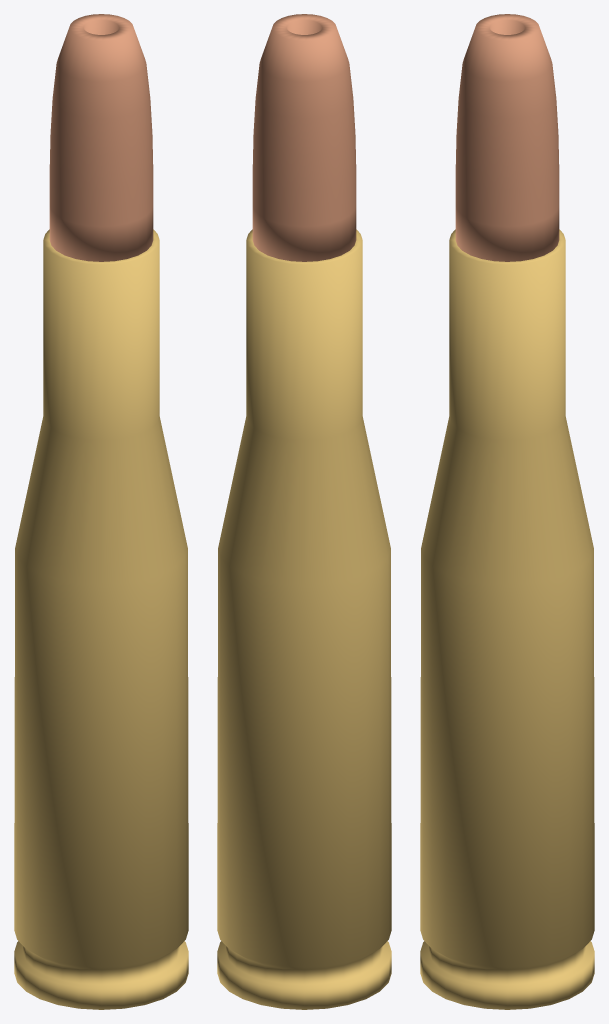
3 views of the same model, side by side, from view 1: azimuth 30°, elevation 25°; view 2: azimuth 150°, elevation 25°; view 3: azimuth 270°, elevation 25° (orthographic).
Parts seen in each view (by area): view 1: vaina, bala_hueca; view 2: vaina, bala_hueca; view 3: vaina, bala_hueca.
Boxes of the visible parts, x1=… form: vaina: x1=14, y1=229, x2=188, y2=1009; bala_hueca: x1=49, y1=14, x2=153, y2=261; vaina: x1=217, y1=229, x2=391, y2=1009; bala_hueca: x1=252, y1=14, x2=356, y2=261; vaina: x1=420, y1=229, x2=594, y2=1009; bala_hueca: x1=455, y1=14, x2=559, y2=261.
Size of the model in its own units: 0.0096 by 0.0574 by 0.0096.
